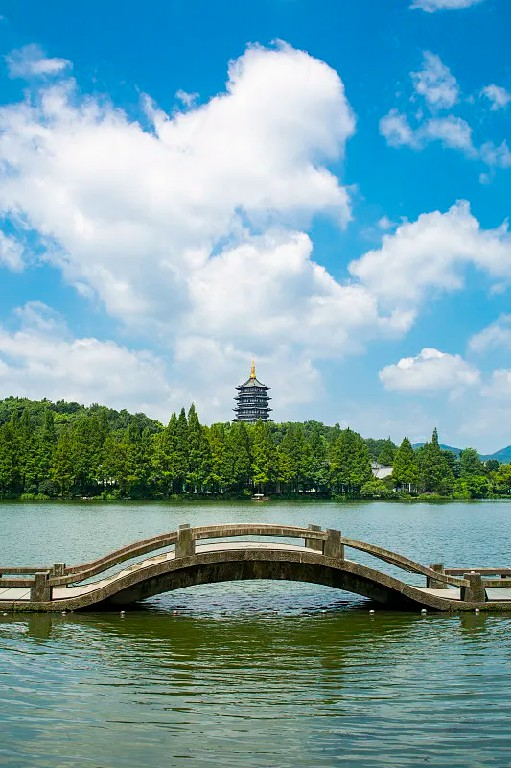Leifeng: (235, 361, 269, 423)
